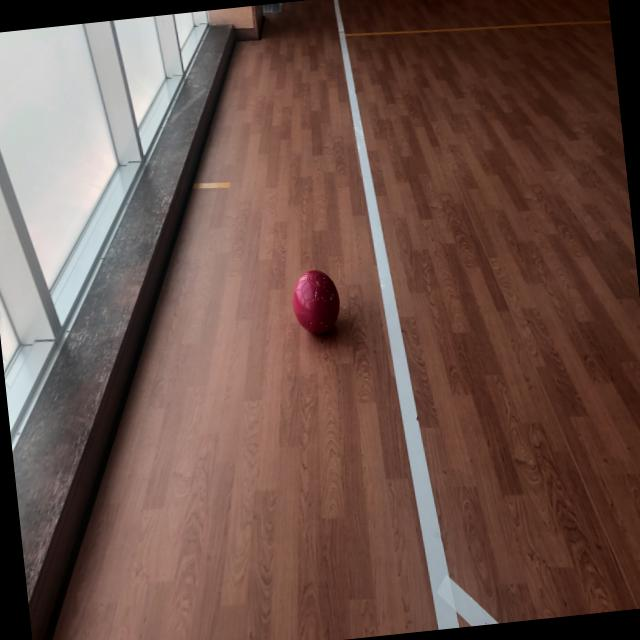red_ball: (291, 266, 342, 338)
